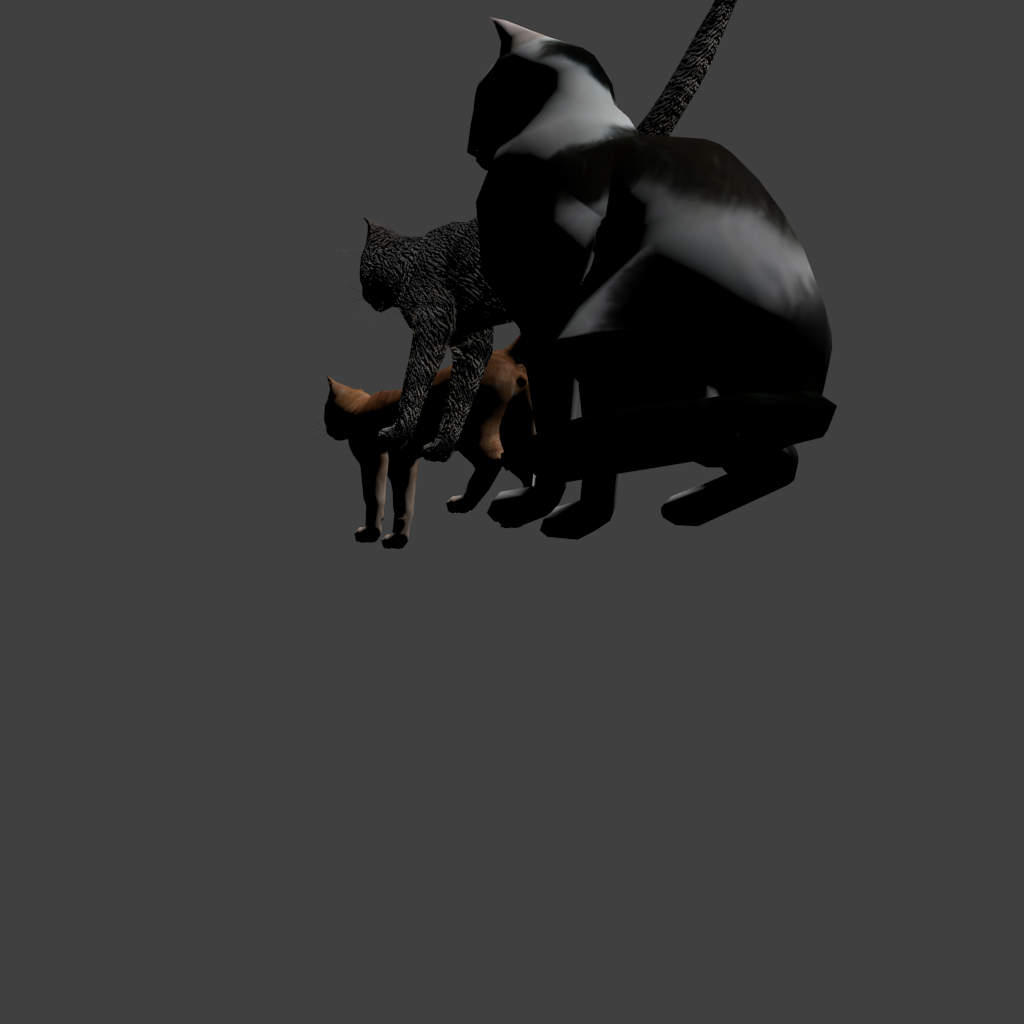Cat: (332, 0, 416, 463)
